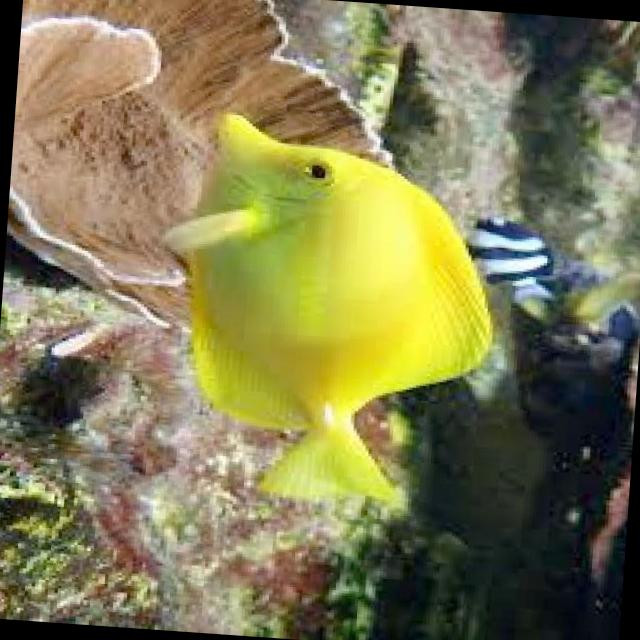YellowTang: (157, 103, 512, 525)
